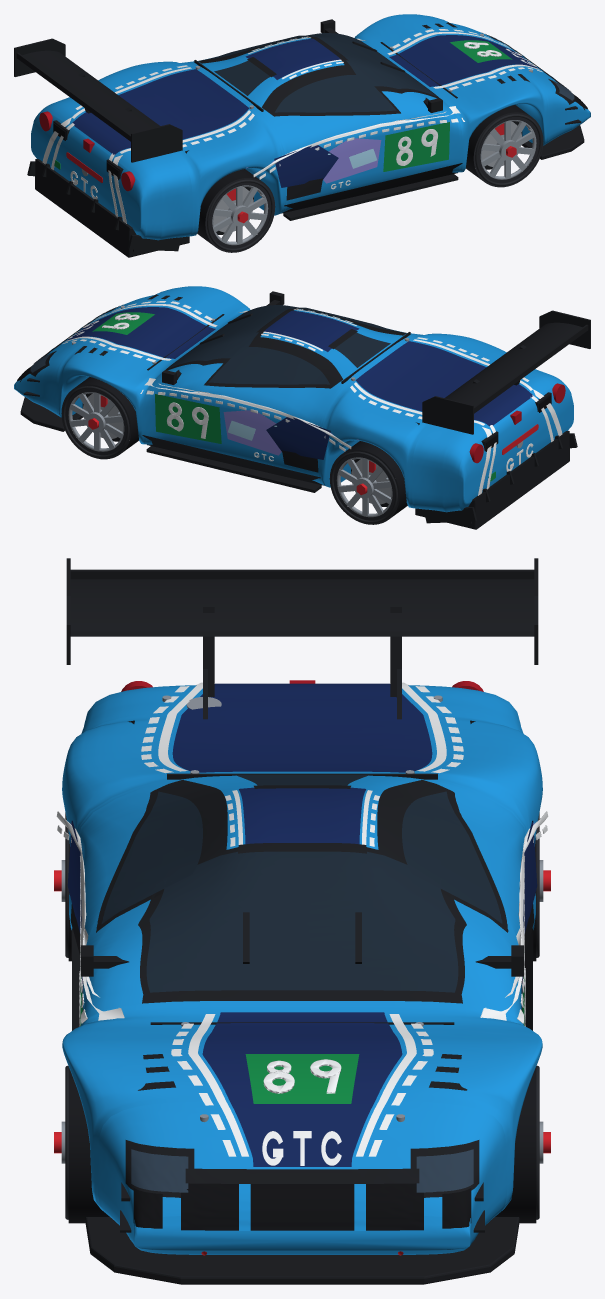
The model's file is gtracer89.glb.
3 views of the same model, one above another, from view 1: azimuth 30°, elevation 25°; view 2: azimuth 150°, elevation 25°; view 3: azimuth 270°, elevation 25° (orthographic). The views are drawn at different scales.
Parts seen in each view (by area): view 1: body_shell, field_deck, spine_nose, rear_wing_plane, rear_diffuser, side_glass_l, windscreen, number_panel_door_l, field_roof, side_glass_frame_l, camo_quarter_navy_l, side_skirt_l (+23 smaller); view 2: body_shell, field_deck, spine_nose, rear_wing_plane, rear_diffuser, side_glass_r, windscreen, number_panel_door_r, field_roof, side_glass_frame_r, camo_quarter_navy_r, side_skirt_r (+24 smaller); view 3: body_shell, windscreen, rear_wing_plane, field_deck, spine_nose, front_splitter, front_grille, side_glass_r, side_glass_l, field_roof, windscreen_frame, gurney_flap (+22 smaller).
Boxes of the visible parts, x1=… form: body_shell: x1=31, y1=14, x2=590, y2=240; field_deck: x1=72, y1=69, x2=249, y2=155; spine_nose: x1=389, y1=35, x2=539, y2=86; rear_wing_plane: x1=22, y1=50, x2=160, y2=134; rear_diffuser: x1=35, y1=159, x2=189, y2=257; side_glass_l: x1=275, y1=75, x2=396, y2=112; windscreen: x1=302, y1=33, x2=436, y2=96; number_panel_door_l: x1=383, y1=122, x2=449, y2=171; field_roof: x1=245, y1=38, x2=340, y2=79; side_glass_frame_l: x1=262, y1=65, x2=400, y2=116; camo_quarter_navy_l: x1=274, y1=145, x2=338, y2=187; side_skirt_l: x1=283, y1=174, x2=458, y2=220; body_shell: x1=14, y1=286, x2=573, y2=512; field_deck: x1=355, y1=341, x2=532, y2=426; spine_nose: x1=65, y1=307, x2=215, y2=358; rear_wing_plane: x1=444, y1=322, x2=582, y2=406; rear_diffuser: x1=415, y1=431, x2=569, y2=529; side_glass_r: x1=208, y1=347, x2=329, y2=384; windscreen: x1=168, y1=305, x2=307, y2=368; number_panel_door_r: x1=155, y1=394, x2=221, y2=443; field_roof: x1=264, y1=310, x2=359, y2=351; side_glass_frame_r: x1=204, y1=337, x2=342, y2=388; camo_quarter_navy_r: x1=266, y1=417, x2=330, y2=459; side_skirt_r: x1=146, y1=446, x2=321, y2=492; body_shell: x1=62, y1=685, x2=542, y2=1254; windscreen: x1=146, y1=851, x2=458, y2=992; rear_wing_plane: x1=70, y1=579, x2=534, y2=636; field_deck: x1=172, y1=683, x2=432, y2=772; spine_nose: x1=202, y1=1012, x2=402, y2=1166; front_splitter: x1=85, y1=1217, x2=519, y2=1284; front_grille: x1=181, y1=1183, x2=423, y2=1230; side_glass_r: x1=402, y1=791, x2=502, y2=923; side_glass_l: x1=101, y1=791, x2=202, y2=923; field_roof: x1=239, y1=787, x2=365, y2=844; windscreen_frame: x1=138, y1=847, x2=466, y2=1003; gurney_flap: x1=70, y1=569, x2=534, y2=579.
Bounding box in the file's own units: 4.71 × 1.36 × 2.13.
